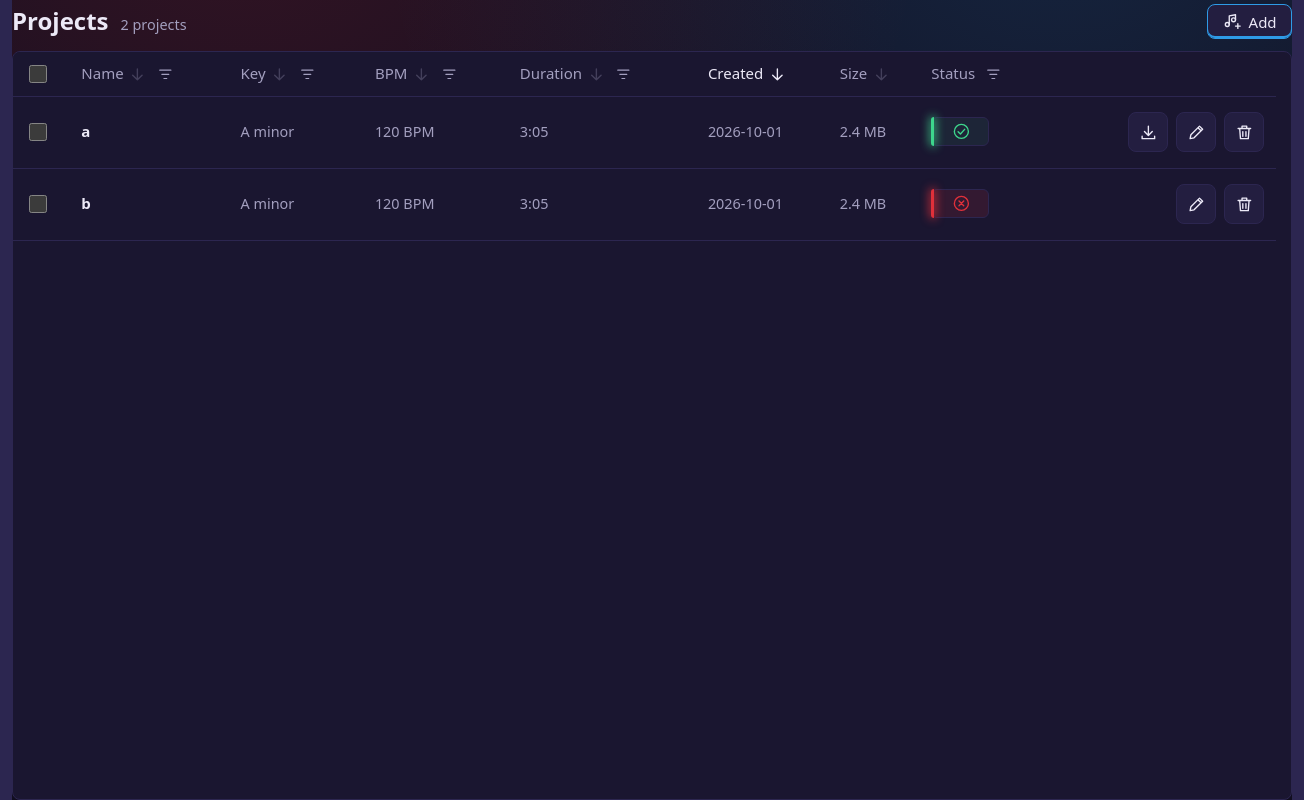
Test: Projects table › shows a rename failure in a banner
Expected: the link "a" is shown, 81,121 -> 90,141
Click the button named "Rename a".
click(1196, 132)  # box 1176,112 -> 1216,152
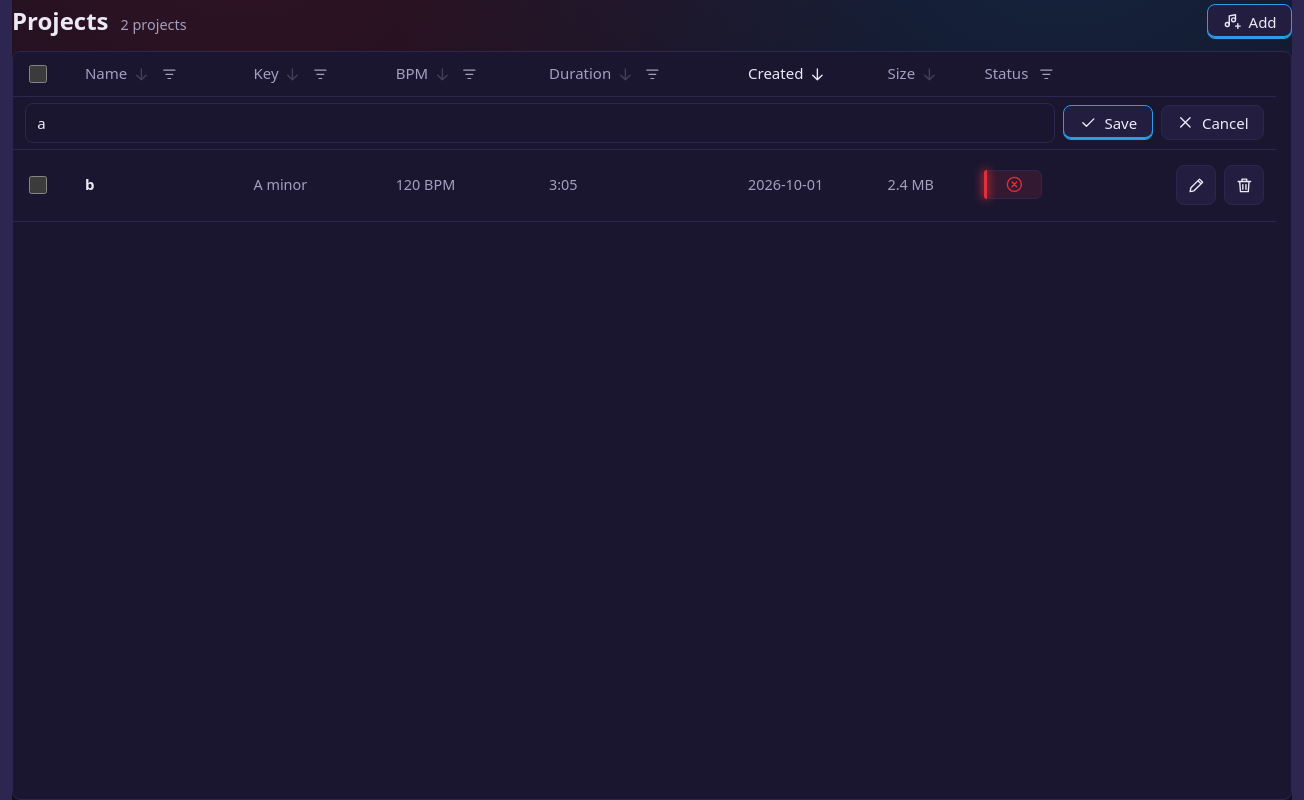
Click the button "Save".
click(1108, 123)  # box 1063,105 -> 1153,140
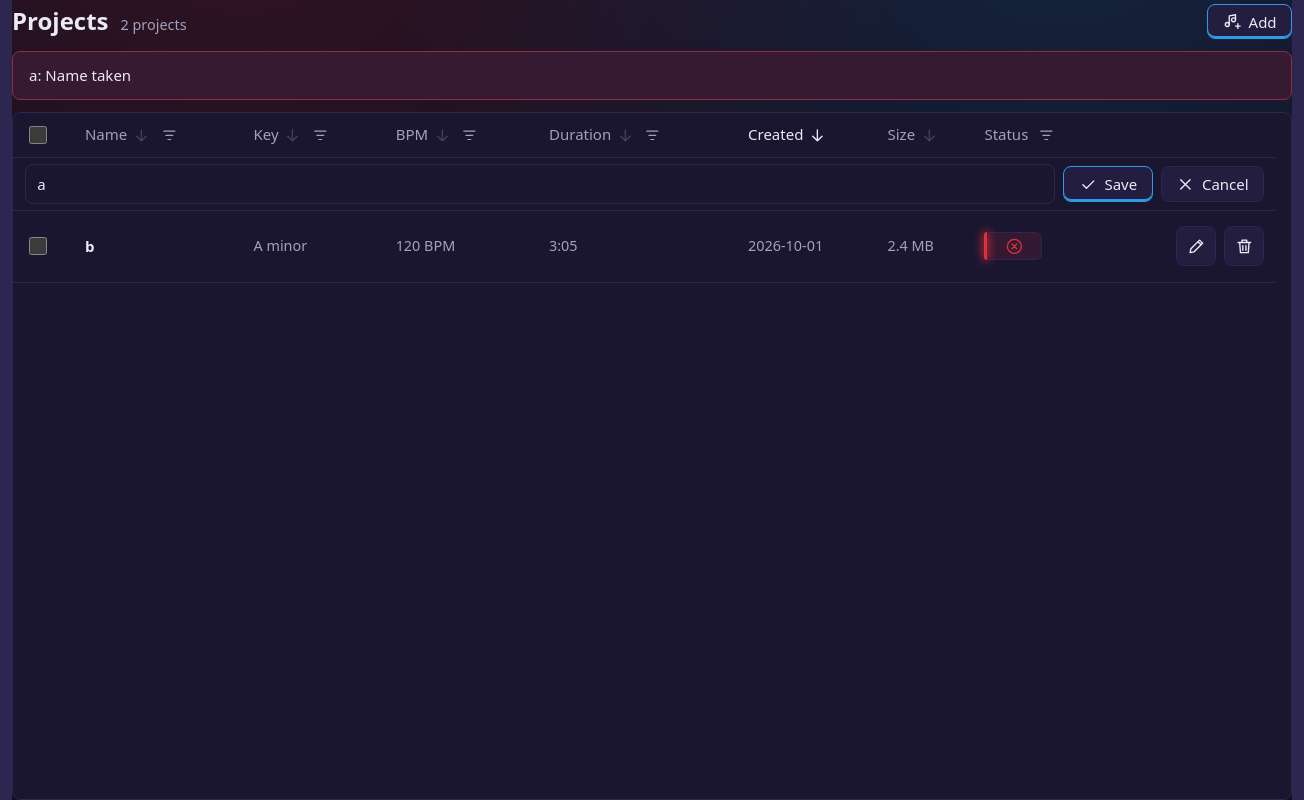
Expected: the message "a: Name taken" is shown, 12,51 -> 1292,100
